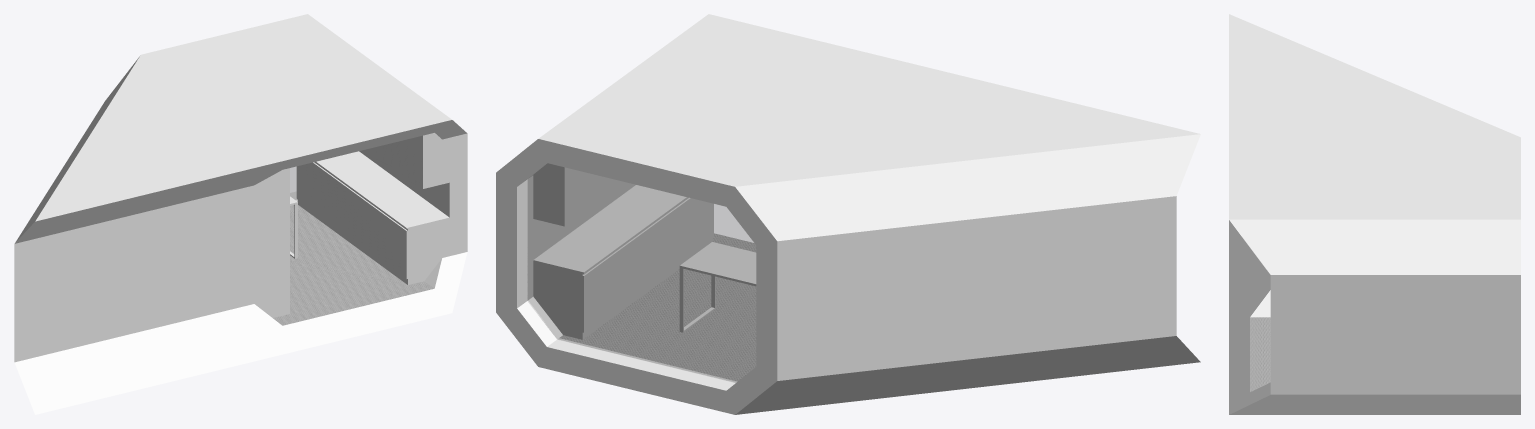
The model's file is ARKHA_L3_MealPrepBayTri_V1.glb.
3 renders of one model, left to right at view 1: azimuth 30°, elevation 25°; view 2: azimuth 150°, elevation 25°; view 3: azimuth 270°, elevation 25°, orthographic. The views are drawn at different scales.
Parts seen in each view (by area): view 1: 906957, 907318, 907084; view 2: 906957, 906933, 907084, 906935, 906936; view 3: 906957, 907318.
Boxes of the visible parts, x1,y1,x2,y2 form: 906957: [14, 14, 467, 414]; 907318: [32, 168, 289, 382]; 907084: [296, 133, 449, 284]; 906957: [496, 14, 1200, 414]; 906933: [528, 163, 755, 382]; 907084: [533, 163, 713, 339]; 906935: [679, 242, 756, 286]; 906936: [679, 268, 715, 332]; 906957: [1229, 14, 1520, 414]; 907318: [1250, 248, 1270, 317].
Size of the model in its own units: 7.6 by 3.1 by 4.2.
1016 materials, 1 textured.
